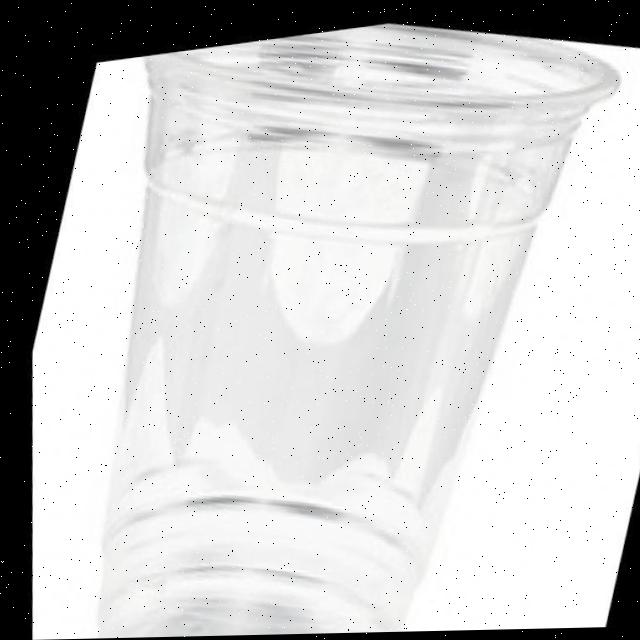cup: (55, 44, 636, 639)
